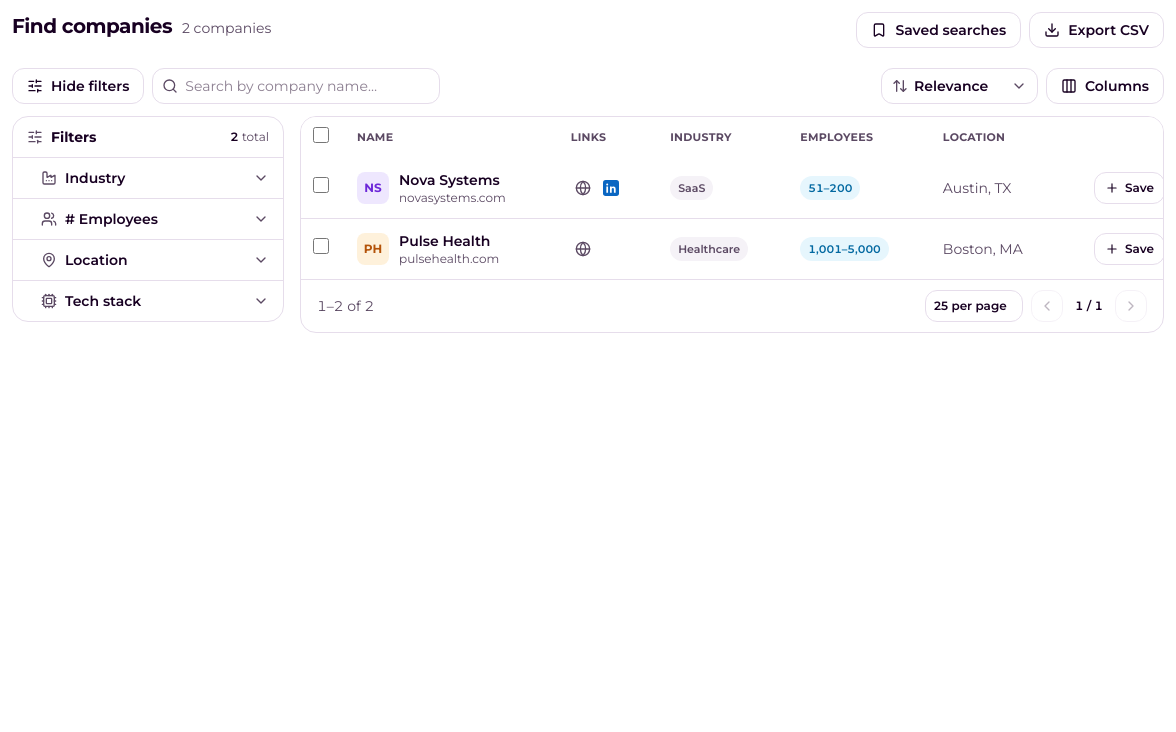
it: Companies › select-all raises the bulk bar with an add-to-list action (no reveal for companies)
Expected: the text "Nova Systems" is shown, [399,170,506,190]
Click the checkbox named "Select all on this page" at (321, 135), box [313,127,329,143]
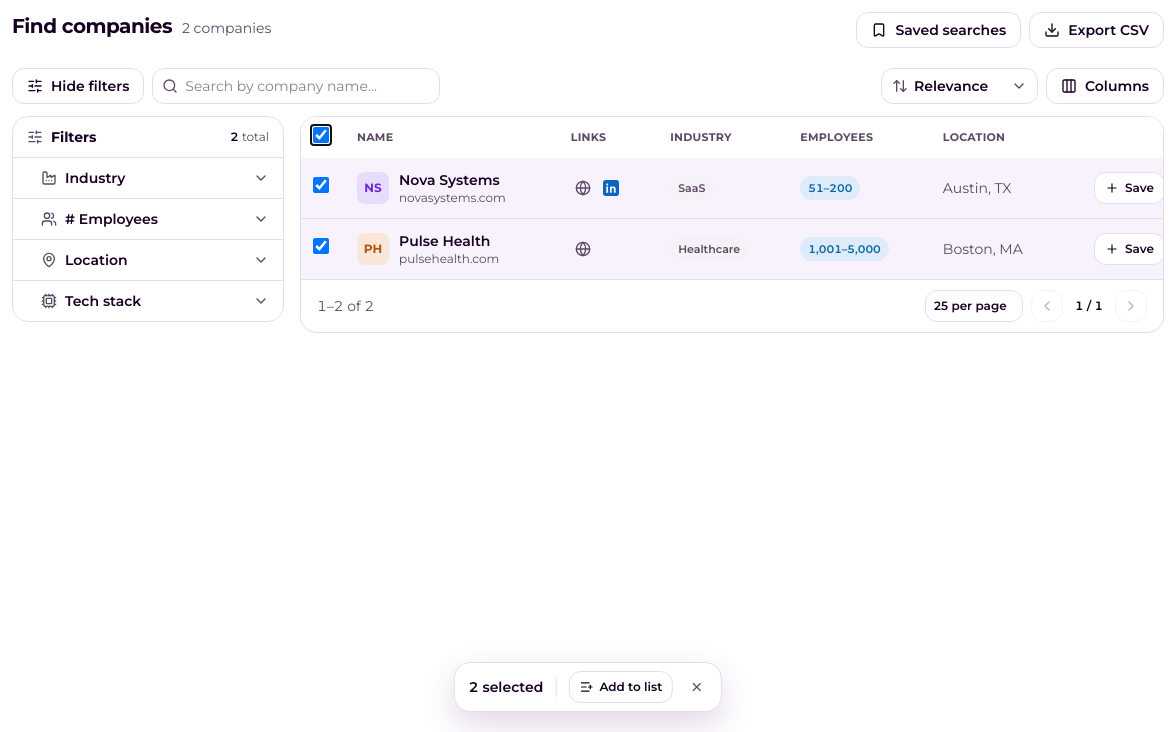
Expected: the element named "Bulk actions" does not show "Reveal", [454,662,722,712]
Expected: the element named "Bulk actions" shows "2 selected", [454,662,722,712]
